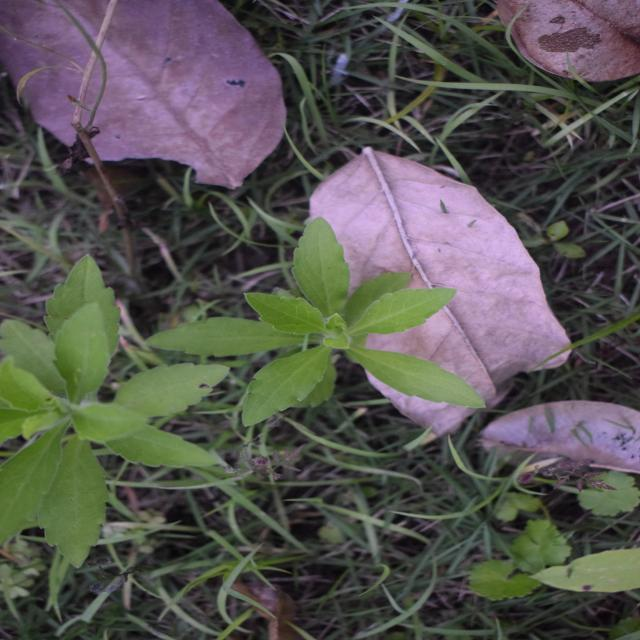horseweed: (86, 0, 394, 227), (230, 211, 402, 463)
